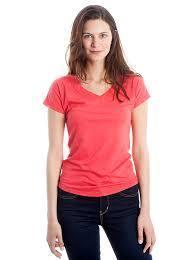Tshirt: (29, 70, 166, 200)
